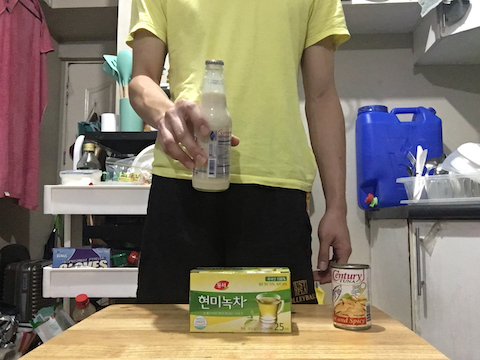bottle: (191, 57, 232, 195)
box: (185, 263, 299, 337)
can: (331, 261, 374, 335)
grab: (161, 96, 212, 176)
